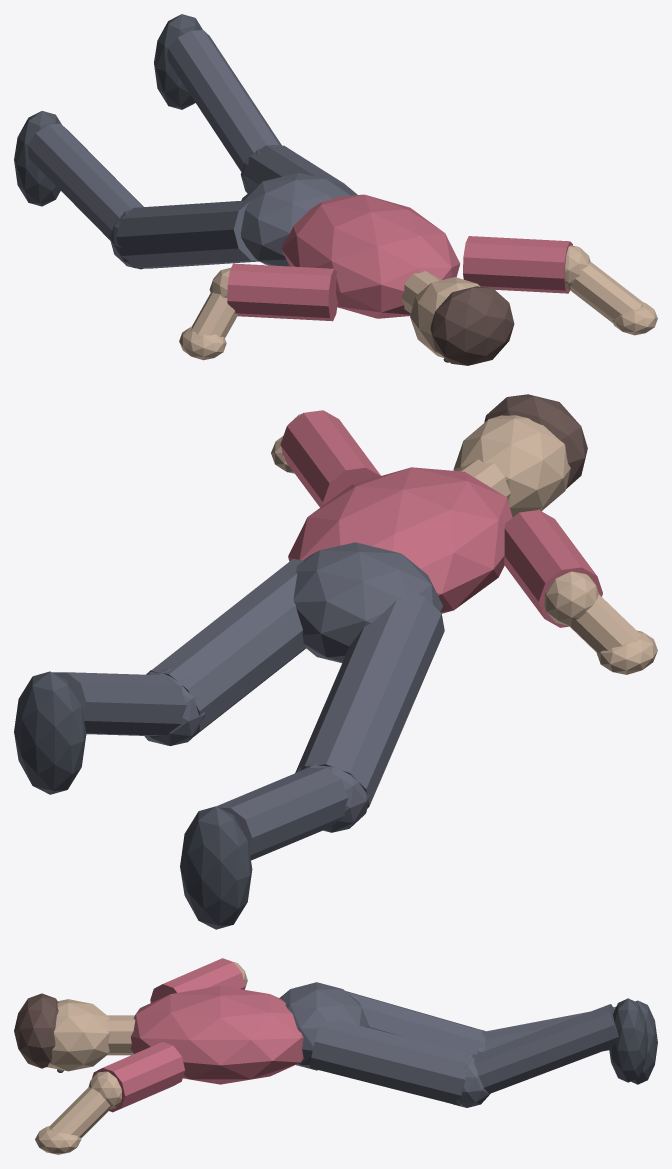
3 renders of one model, top to bottom at view 1: azimuth 30°, elevation 25°; view 2: azimuth 150°, elevation 25°; view 3: azimuth 270°, elevation 25°, orthographic. The views are drawn at different scales.
Parts seen in each view (by area): view 1: world; view 2: world; view 3: world.
Boxes of the visible parts, bbox=[...] form: world: bbox=[14, 14, 657, 365]; world: bbox=[14, 394, 657, 929]; world: bbox=[14, 958, 657, 1154].
Size of the model in its own units: 1.25 by 0.5125 by 2.07.
